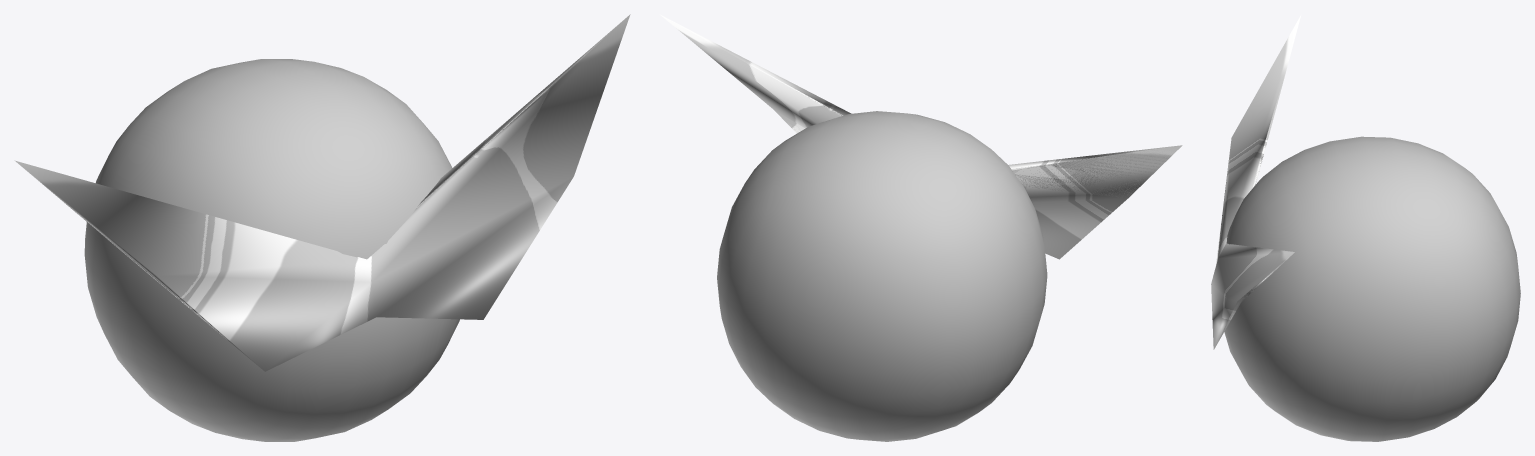
The model's file is Boidv4 1.fbx.
The picture shows the model from 3 angles, left to right: view 1: azimuth 30°, elevation 25°; view 2: azimuth 150°, elevation 25°; view 3: azimuth 270°, elevation 25°; orthographic projection. The views are drawn at different scales.
Parts seen in each view (by area): view 1: Boid_V3.001, Boid_V3; view 2: Boid_V3.001, Boid_V3; view 3: Boid_V3.001, Boid_V3.
Boxes of the visible parts, x1,y1,x2,y2 form: Boid_V3.001: (84,59,459,441); Boid_V3: (14,14,630,371); Boid_V3.001: (717,111,1047,441); Boid_V3: (660,14,1182,259); Boid_V3.001: (1224,136,1520,441); Boid_V3: (1211,15,1300,349).
Size of the model in its own units: 423 by 243 by 232.
1 material, 1 textured.
